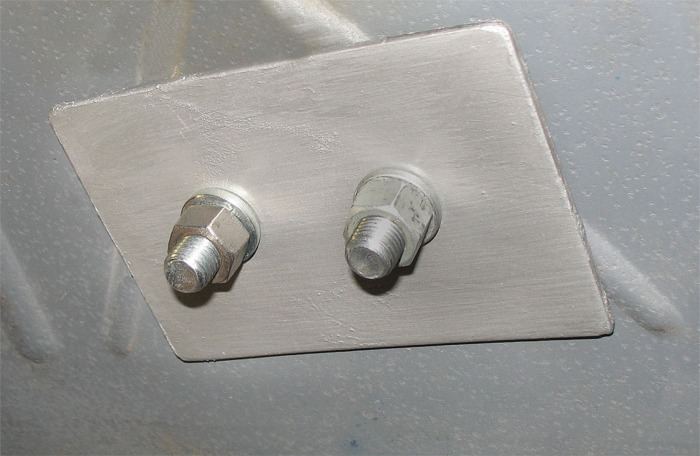bolt_b: (344, 176, 435, 273), (164, 202, 250, 288)
